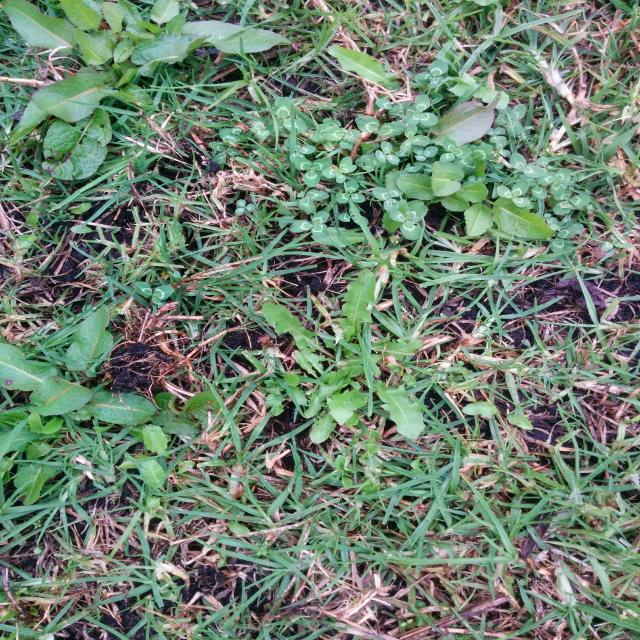Four Leaf Clover: (321, 156, 357, 183)
